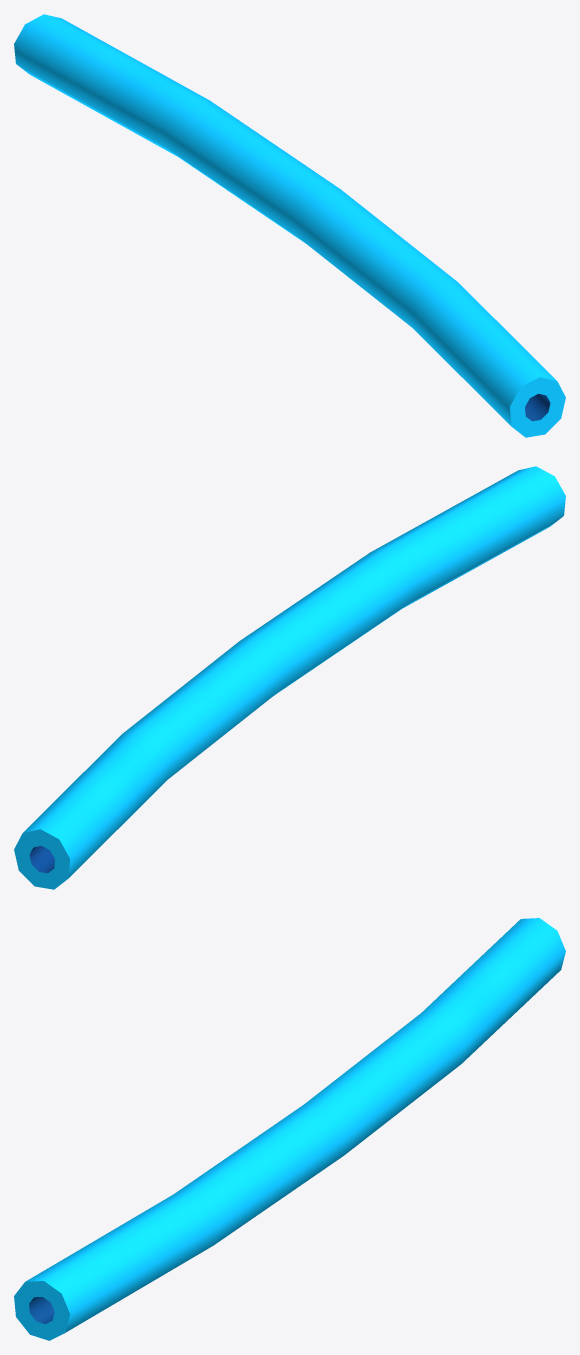
Rendered from PoolNoodleBlue.glb.
The picture shows the model from 3 angles, top to bottom: view 1: azimuth 30°, elevation 25°; view 2: azimuth 150°, elevation 25°; view 3: azimuth 330°, elevation 25°; orthographic projection.
Visible parts, largest first — view 1: PoolNoodleBlue; view 2: PoolNoodleBlue; view 3: PoolNoodleBlue.
Part boxes in pixels (<box>): PoolNoodleBlue: <box>14,14,565,437</box>; PoolNoodleBlue: <box>14,466,565,889</box>; PoolNoodleBlue: <box>14,918,565,1340</box>.
Bounding box in the file's own units: 0.2596 × 0.1766 × 2.56.
1 material, 1 textured.
